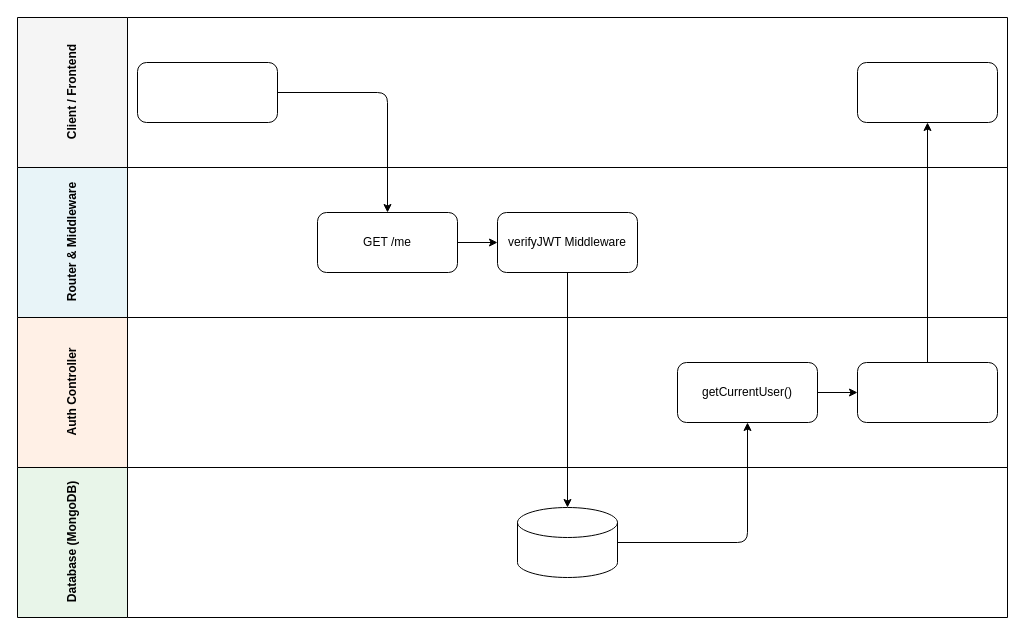
Some shapes in this 1025 by 635 pixel diagram are drawn without their labels. Each missing label, with the centre of its shape:
"App Mounts / Context Init" goes at point 207,92.
"HTTP 200 OK with User JSON" goes at point 927,392.
"Query User Decoded ID (Exclude Pwd & Token)" goes at point 567,542.
"Set Current User State in Context" goes at point 927,92.
